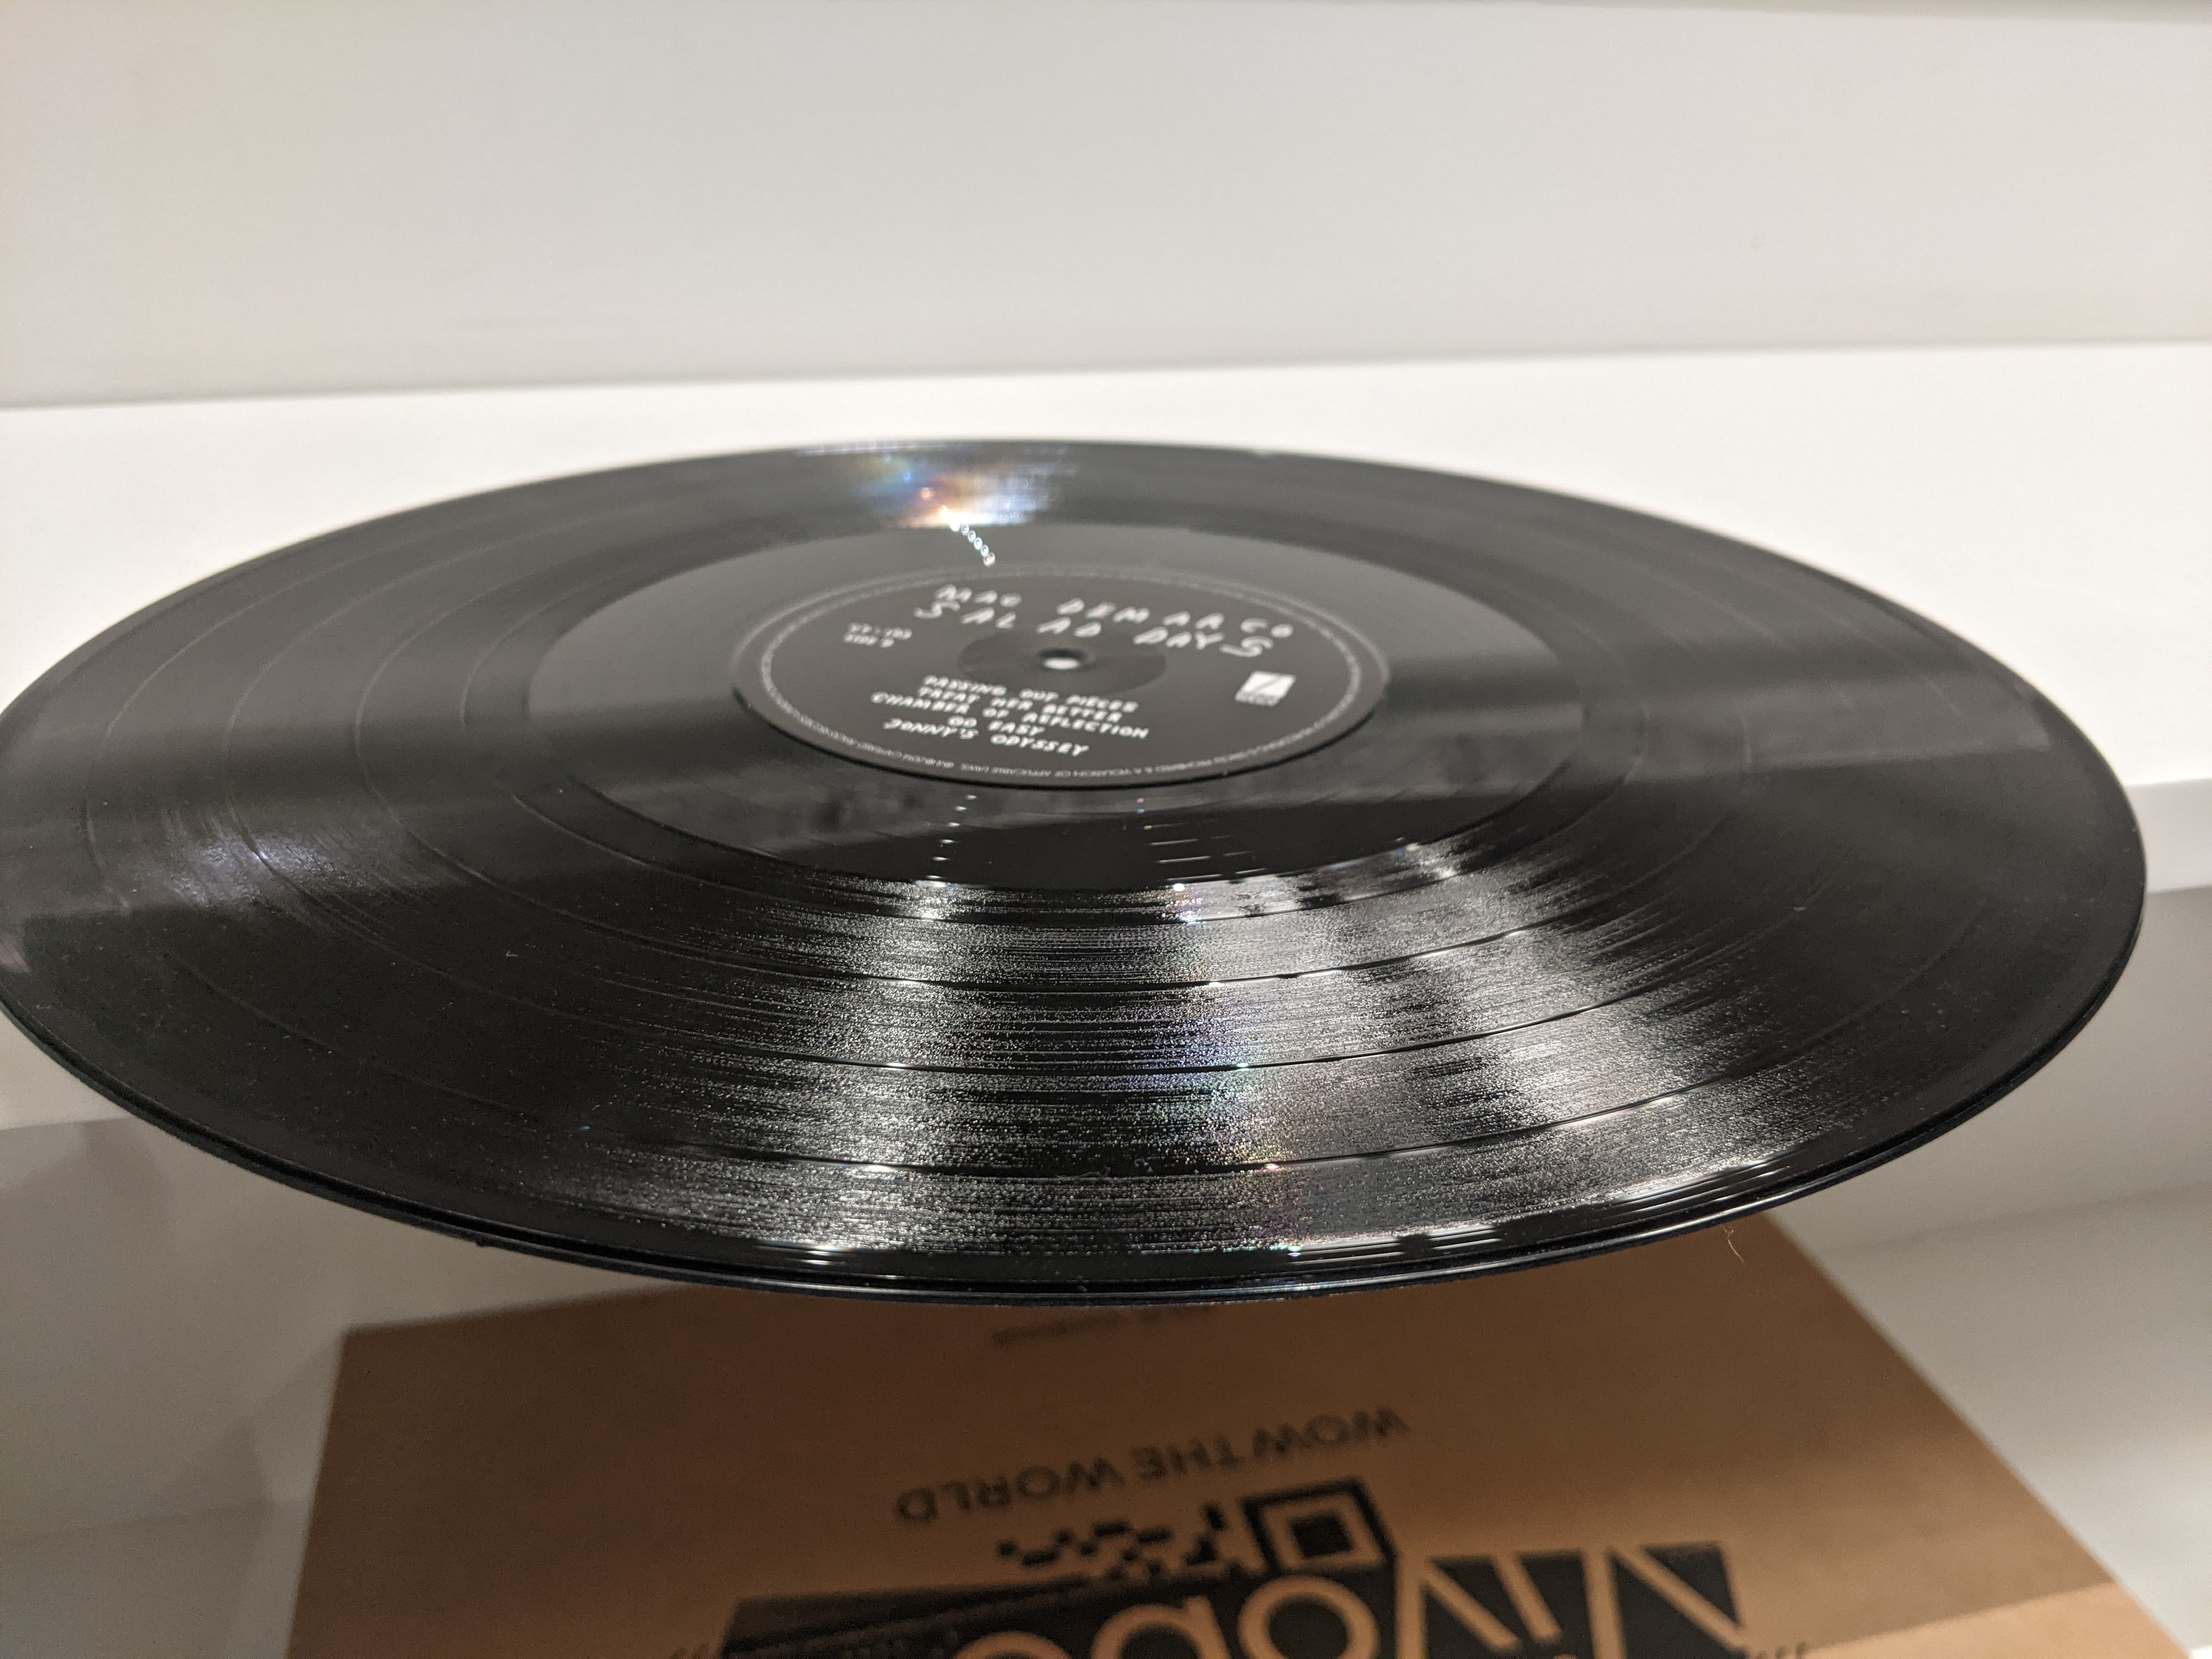song_edge: (56, 795, 139, 917), (334, 755, 413, 835), (444, 732, 523, 805), (197, 763, 261, 849)
